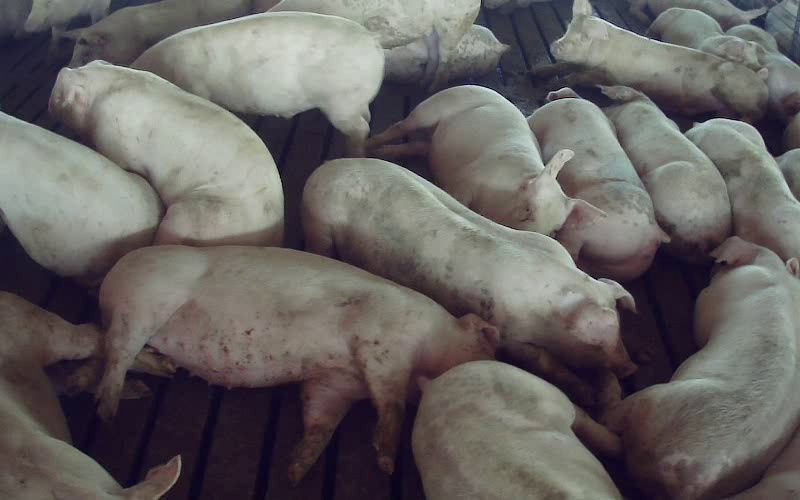pig: (97, 247, 496, 480), (303, 159, 634, 407), (605, 237, 799, 499), (49, 61, 283, 245), (132, 12, 383, 156), (369, 85, 605, 235), (412, 360, 620, 499), (532, 0, 767, 121), (528, 88, 668, 280), (602, 86, 730, 261), (270, 0, 480, 90), (686, 119, 799, 260), (70, 0, 276, 66), (647, 8, 767, 80), (726, 24, 799, 123)
